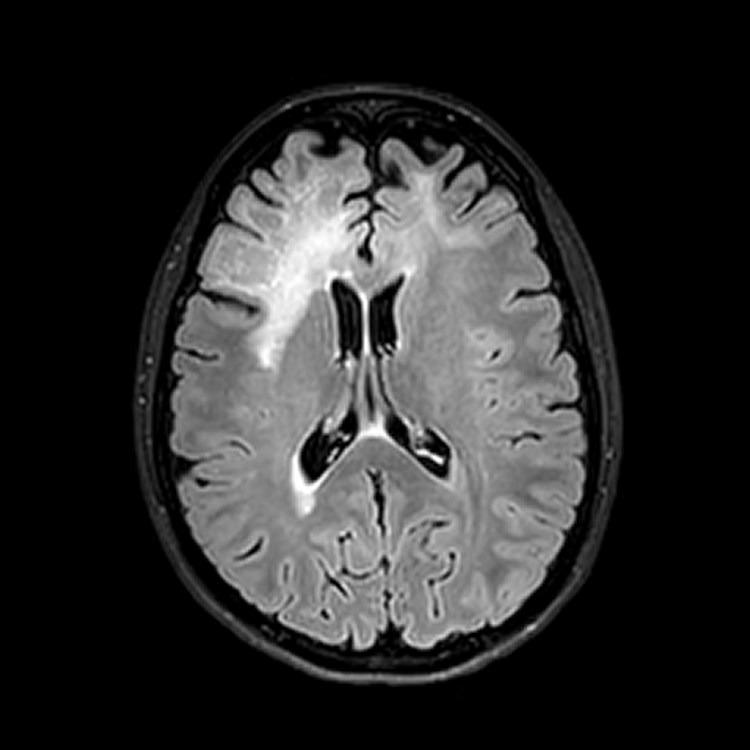Normal_Brain: (93, 96, 620, 740)
